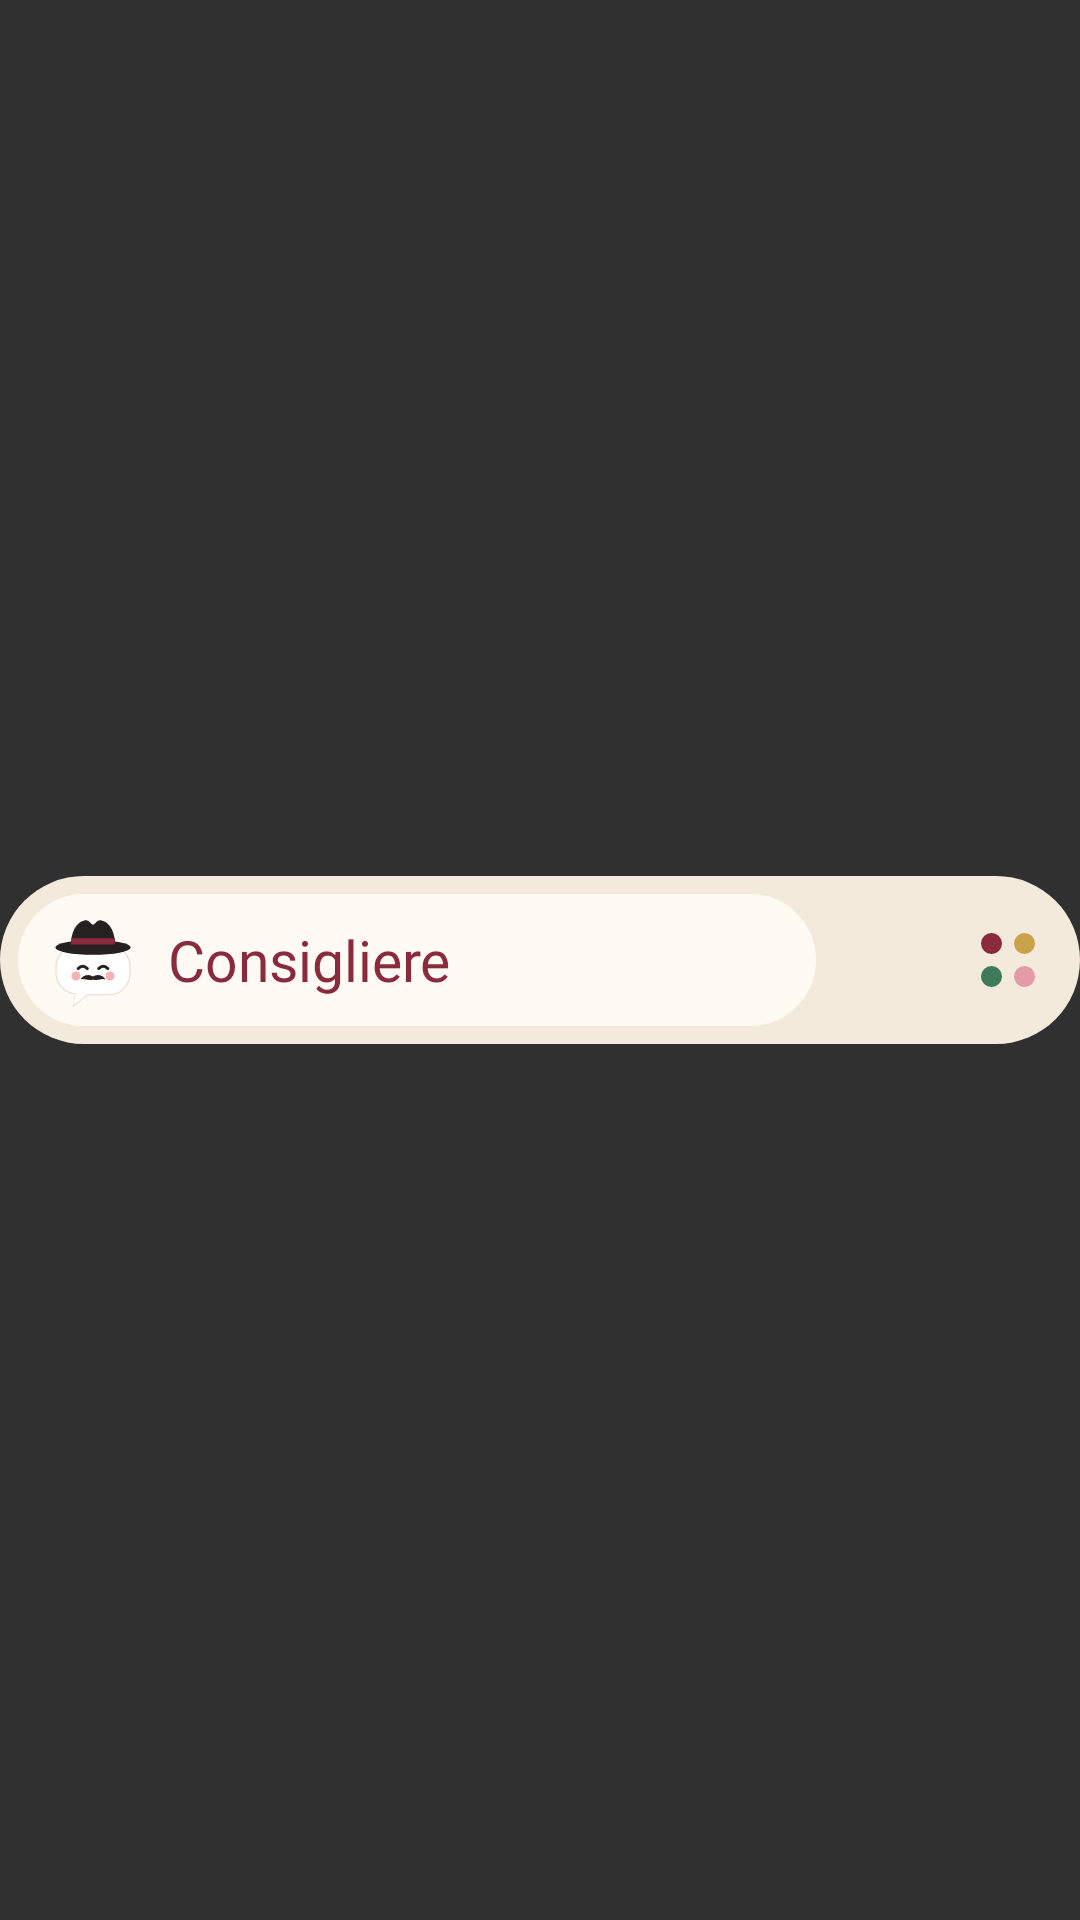

Where icons sit on this 1080px×1920px app screen, as (x1, y1, x2, y2):
grid: (981, 933, 1035, 987)
mascot: (55, 920, 131, 1007)
